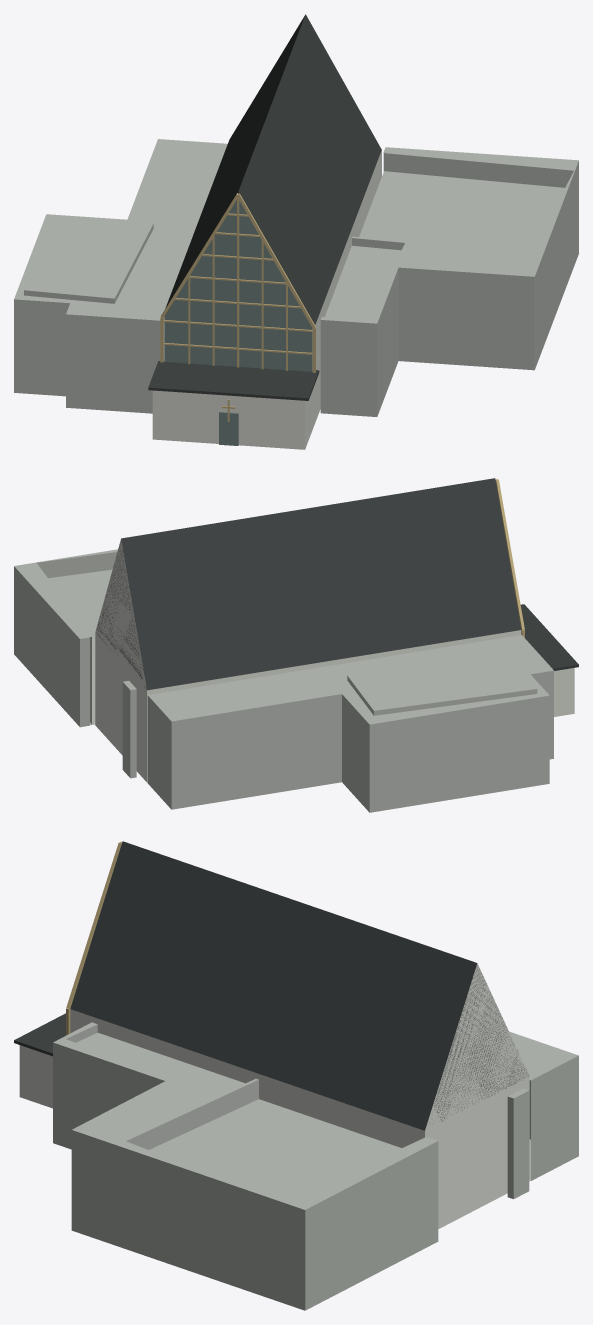
File: st-hilary-photo-derived-pilot-study.glb
3 views of the same model, one above another, from view 1: azimuth 30°, elevation 25°; view 2: azimuth 150°, elevation 25°; view 3: azimuth 270°, elevation 25° (orthographic). The views are drawn at different scales.
Visible parts, largest first — view 1: St Hilary photo-derived private nave study; view 2: St Hilary photo-derived private nave study; view 3: St Hilary photo-derived private nave study.
Part boxes in pixels (bbox=[...]): St Hilary photo-derived private nave study: bbox=[14, 14, 578, 449]; St Hilary photo-derived private nave study: bbox=[14, 478, 578, 812]; St Hilary photo-derived private nave study: bbox=[14, 841, 578, 1310].
Bounding box in the file's own units: 36.33 × 14 × 29.13.
